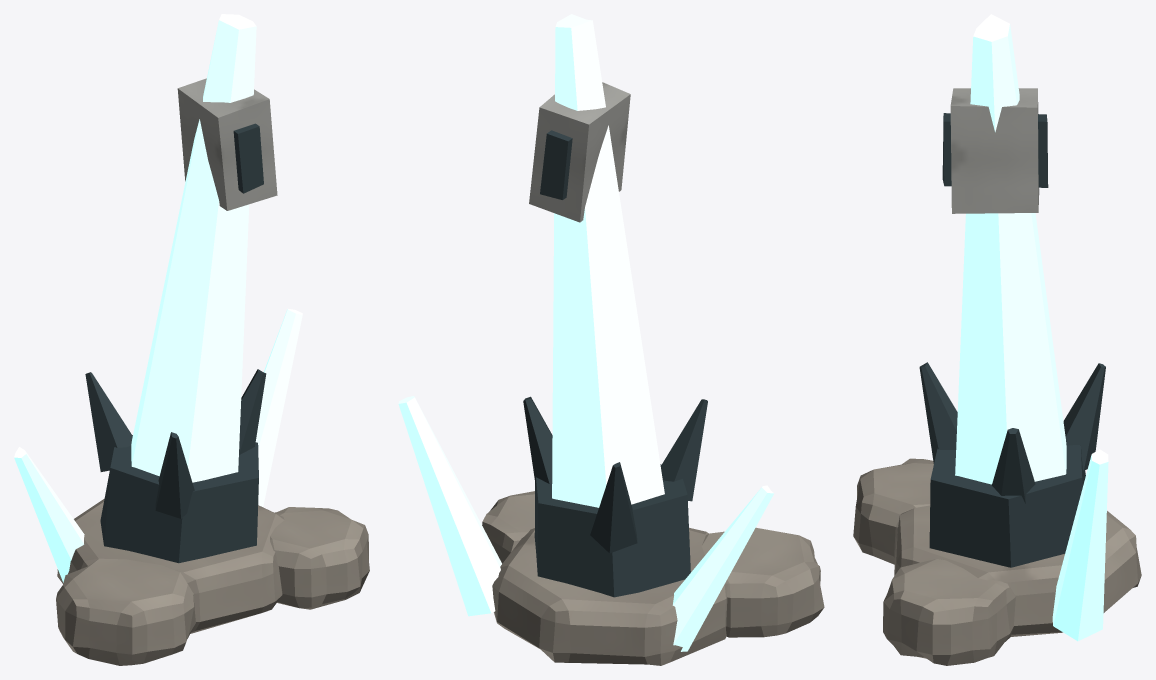
File: master_needle_shard.glb
3 views of the same model, side by side, from view 1: azimuth 30°, elevation 25°; view 2: azimuth 150°, elevation 25°; view 3: azimuth 270°, elevation 25° (orthographic). The views are drawn at different scales.
Parts seen in each view (by area): view 1: MasterNeedleShard; view 2: MasterNeedleShard; view 3: MasterNeedleShard.
Part boxes in pixels (x1,y1,x2,y2): MasterNeedleShard: (14,14,369,665); MasterNeedleShard: (398,14,824,665); MasterNeedleShard: (853,14,1141,665).
Size of the model in its own units: 0.2546 by 0.426 by 0.1863.
4 materials, 2 textured.
